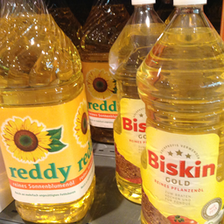oil: (1, 1, 96, 224), (136, 1, 223, 224)
